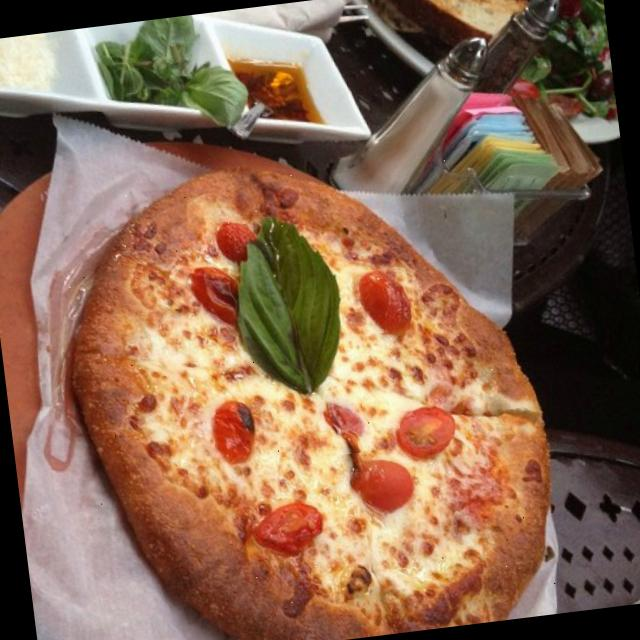basil: (230, 212, 350, 394)
pizza: (72, 166, 550, 640)
tomato: (251, 496, 328, 560), (347, 450, 418, 517), (353, 264, 412, 334), (396, 399, 459, 462), (207, 398, 260, 469), (188, 262, 242, 327), (318, 394, 367, 456), (214, 214, 256, 264)
